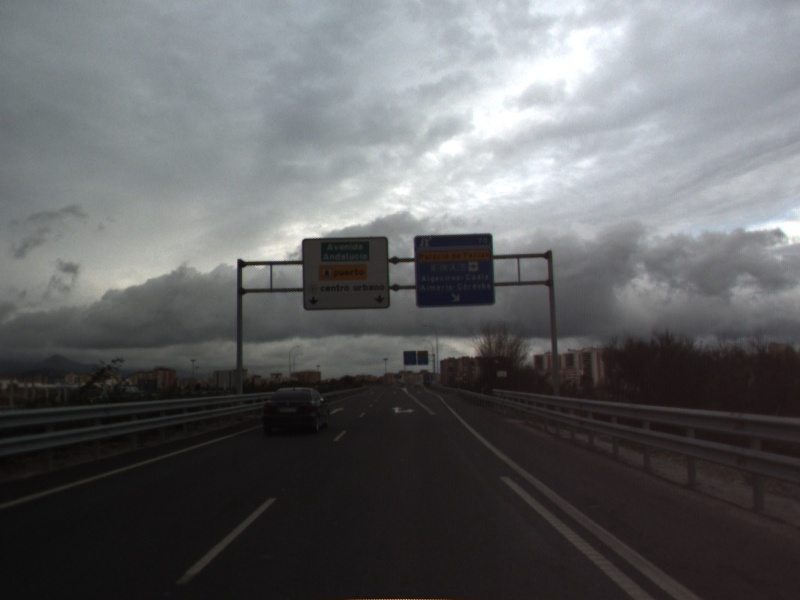STRAIGHT: (328, 405, 346, 416)
STRAIGHT_RIGHT: (389, 404, 417, 415)
